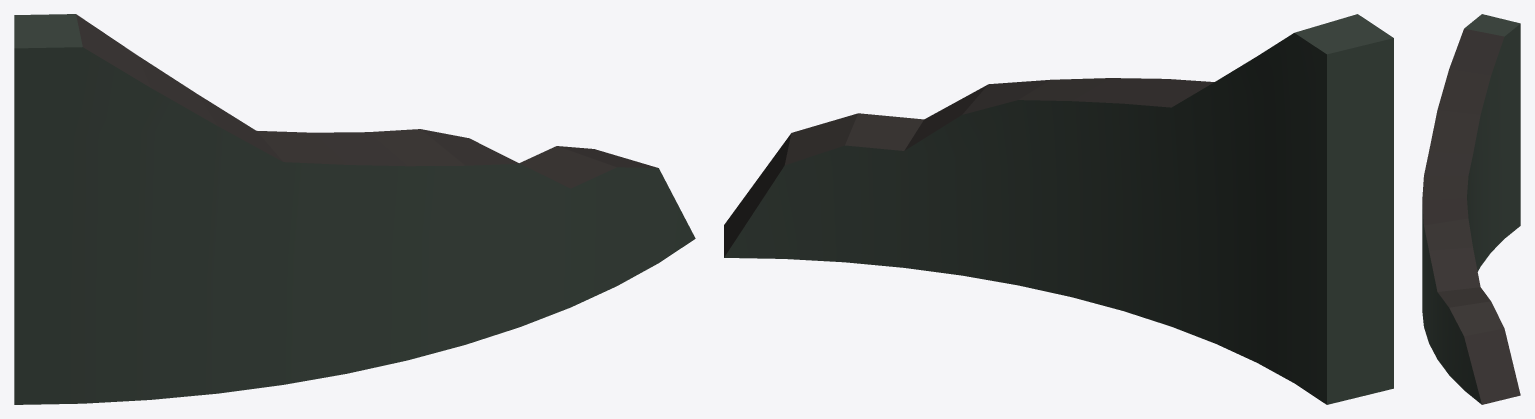
Rendered from SM_WallRingLarge_DamageFull_R.fbx.
3 views of the same model, side by side, from view 1: azimuth 30°, elevation 25°; view 2: azimuth 150°, elevation 25°; view 3: azimuth 270°, elevation 25° (orthographic). The views are drawn at different scales.
Parts seen in each view (by area): view 1: SM_WallRingLarge_DamageFull_R; view 2: SM_WallRingLarge_DamageFull_R; view 3: SM_WallRingLarge_DamageFull_R.
Part boxes in pixels (x1,y1,x2,y2): SM_WallRingLarge_DamageFull_R: (14,14,695,404); SM_WallRingLarge_DamageFull_R: (724,14,1393,404); SM_WallRingLarge_DamageFull_R: (1422,14,1520,404).
Size of the model in its own units: 1000 by 500 by 221.
Materials: 1 (1 with a texture image).
